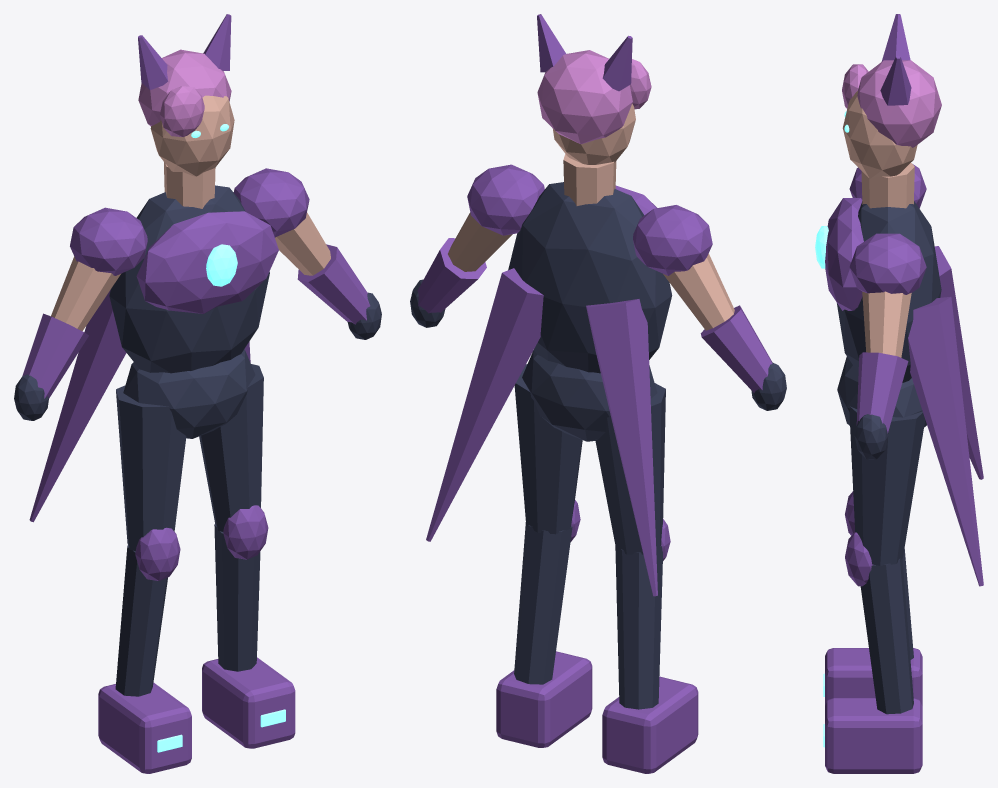
File: SM_Xayah.fbx
The picture shows the model from 3 angles, left to right: view 1: azimuth 30°, elevation 25°; view 2: azimuth 150°, elevation 25°; view 3: azimuth 270°, elevation 25°; orthographic projection. The views are drawn at different scales.
Parts seen in each view (by area): view 1: SM_Xayah; view 2: SM_Xayah; view 3: SM_Xayah.
Part boxes in pixels (bbox=[...]): SM_Xayah: bbox=[14, 14, 381, 773]; SM_Xayah: bbox=[410, 14, 786, 773]; SM_Xayah: bbox=[815, 14, 983, 773].
Bounding box in the file's own units: 98.18 × 39.76 × 183.
